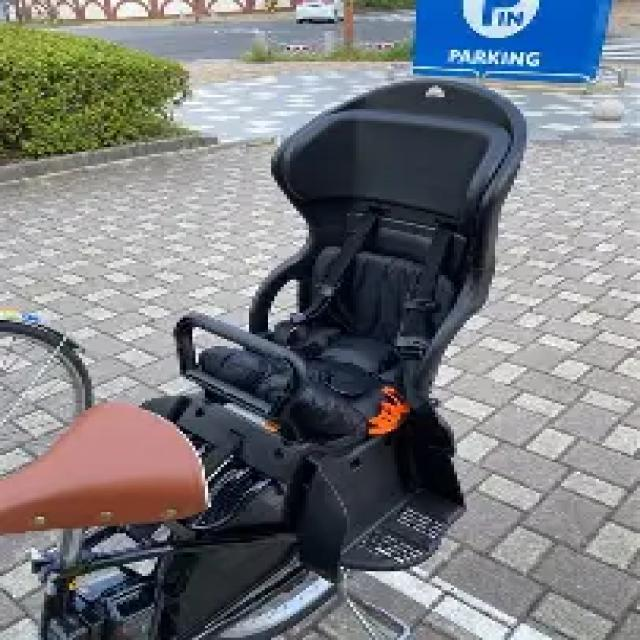childseat: (165, 79, 534, 634)
